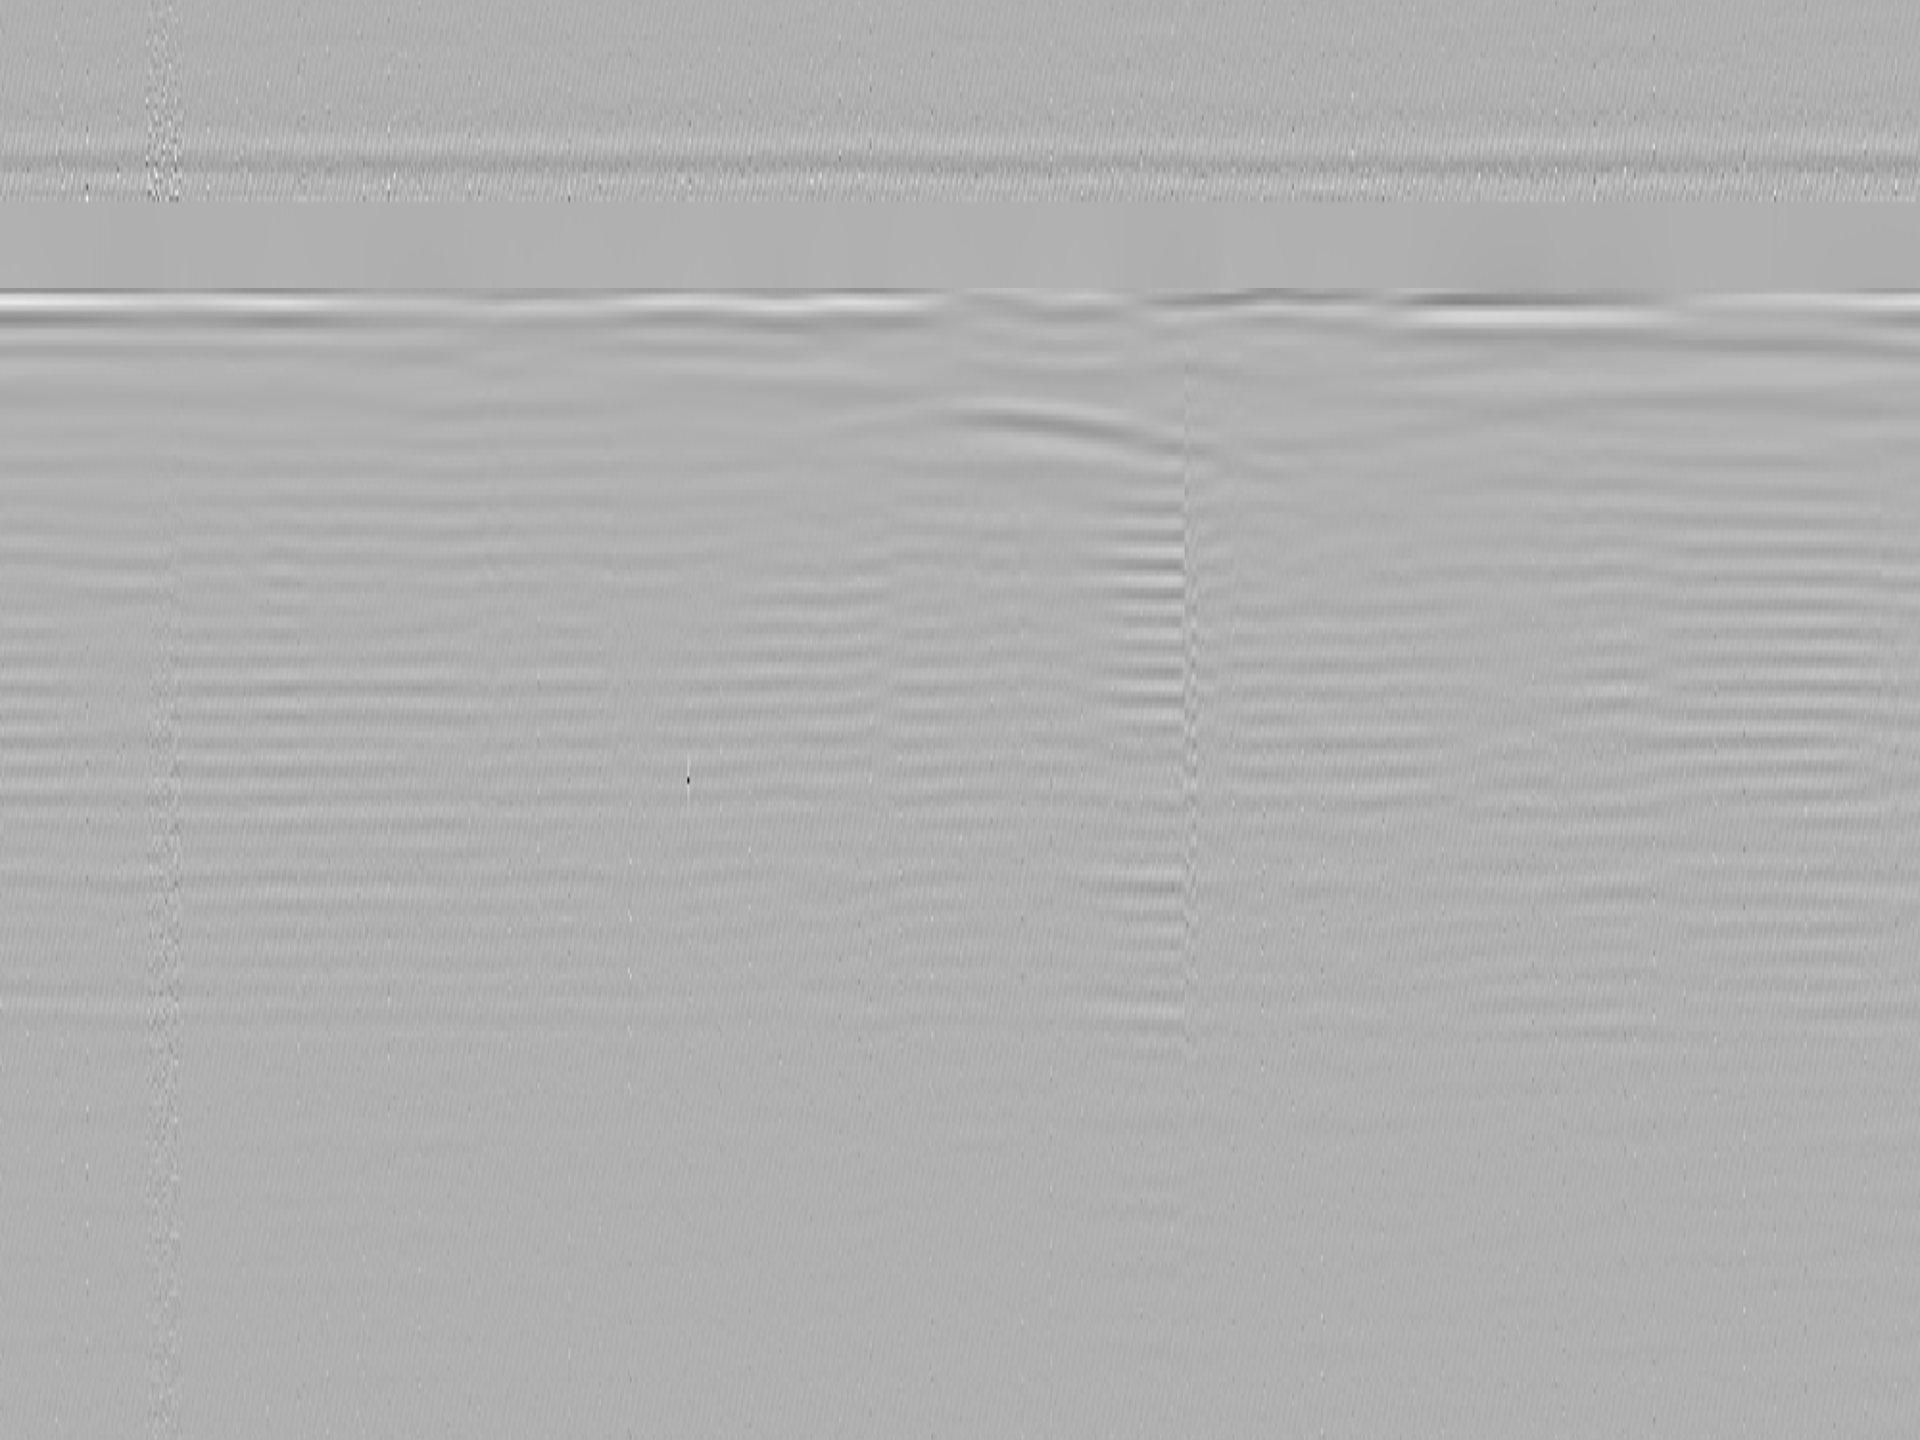Tunnel: (757, 404, 1305, 484)
